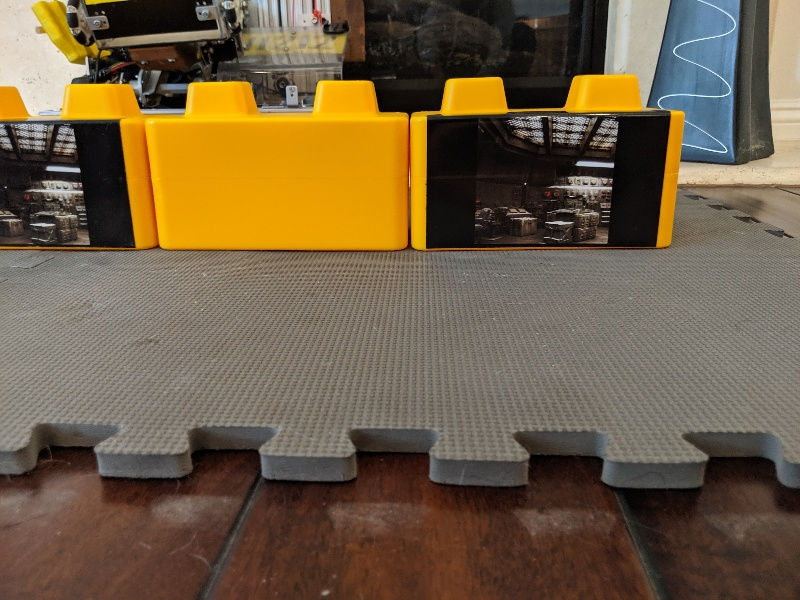Skystone: (421, 105, 674, 254)
